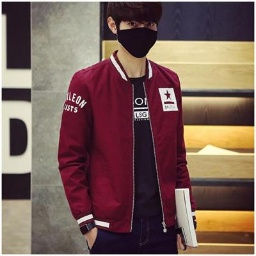face: (105, 1, 164, 57)
